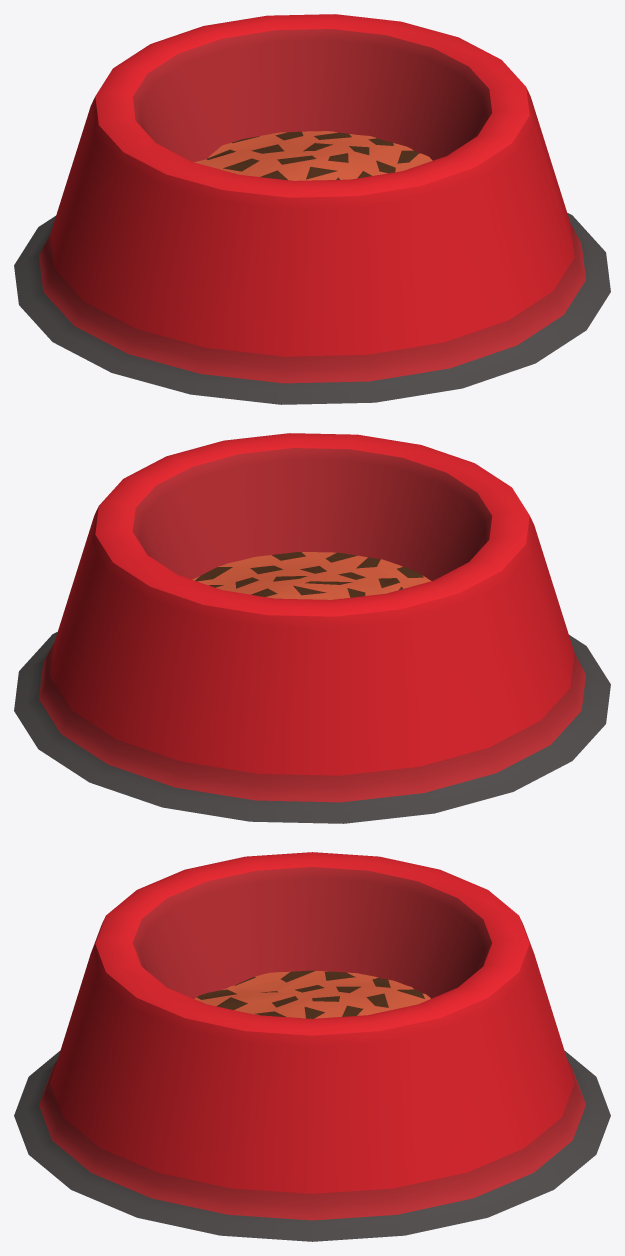
File: dog_food_bowl_4.fbx
3 views of the same model, one above another, from view 1: azimuth 30°, elevation 25°; view 2: azimuth 150°, elevation 25°; view 3: azimuth 270°, elevation 25° (orthographic).
Parts seen in each view (by area): view 1: pDisc13; view 2: pDisc13; view 3: pDisc13.
Part boxes in pixels (x1=…): pDisc13: x1=14, y1=14, x2=610, y2=404; pDisc13: x1=14, y1=433, x2=610, y2=823; pDisc13: x1=14, y1=852, x2=610, y2=1241.
Bounding box in the file's own units: 59.94 × 22.51 × 59.94.
1 material, 1 textured.
